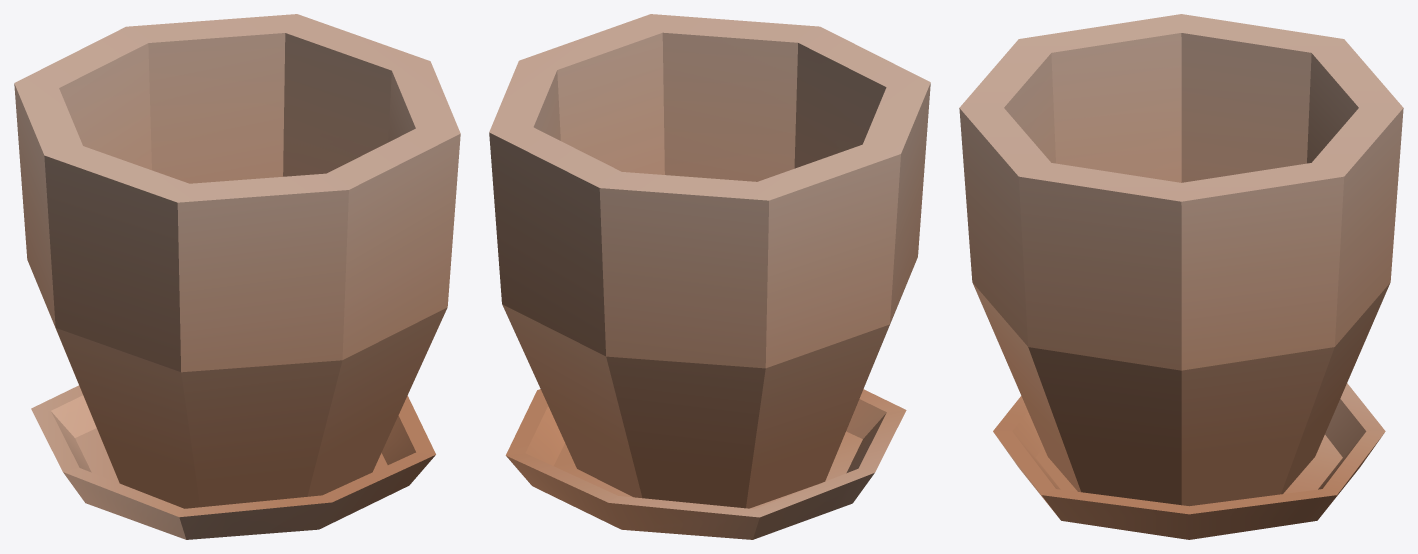
File: PlantPot_01.fbx
3 views of the same model, side by side, from view 1: azimuth 30°, elevation 25°; view 2: azimuth 150°, elevation 25°; view 3: azimuth 270°, elevation 25° (orthographic).
Visible parts, largest first — view 1: PlantPot_01; view 2: PlantPot_01; view 3: PlantPot_01.
Part boxes in pixels (bbox=[...]): PlantPot_01: bbox=[14, 14, 460, 539]; PlantPot_01: bbox=[489, 14, 930, 539]; PlantPot_01: bbox=[959, 14, 1403, 539].
Bounding box in the file's own units: 23.15 × 20.71 × 23.15.
